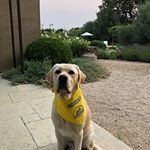puppy: (42, 61, 107, 150)
